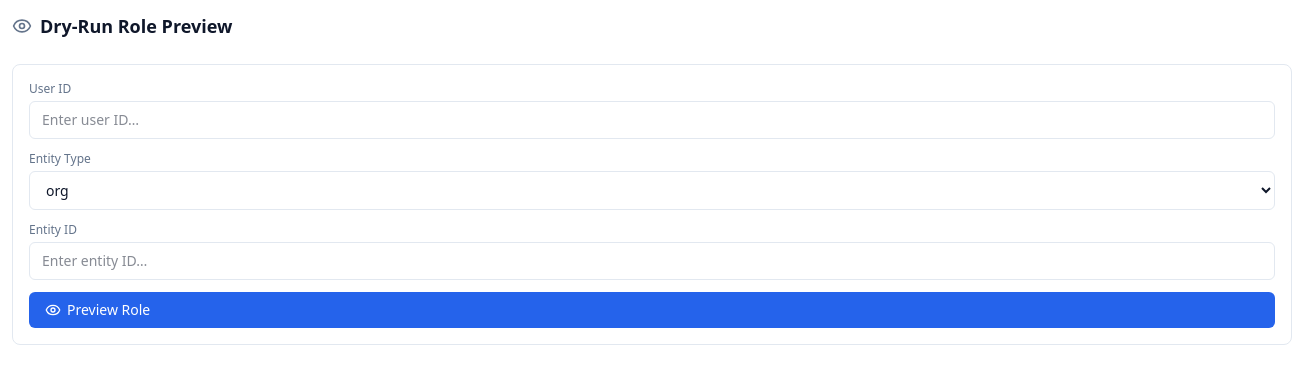
Test case: RBACPolicyPreview › shows validation error when entity ID is empty
Type "user-123" into the field with test id "preview-user-id" at (652, 120), box [29,101,1275,139]
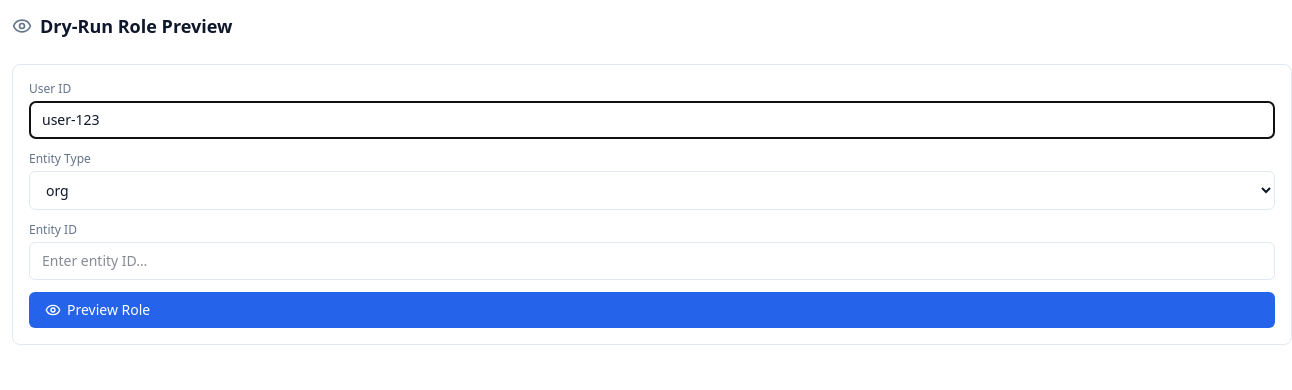
Click the button with test id "preview-submit-btn" at (109, 310), box [29,292,1275,328]
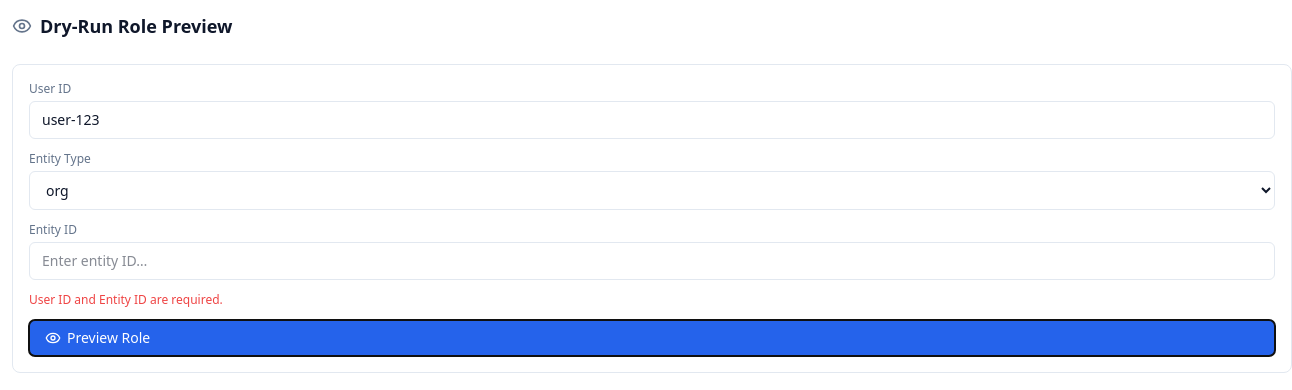
Expected: the text "User ID and Entity ID are required." is shown, [29,291,223,308]
